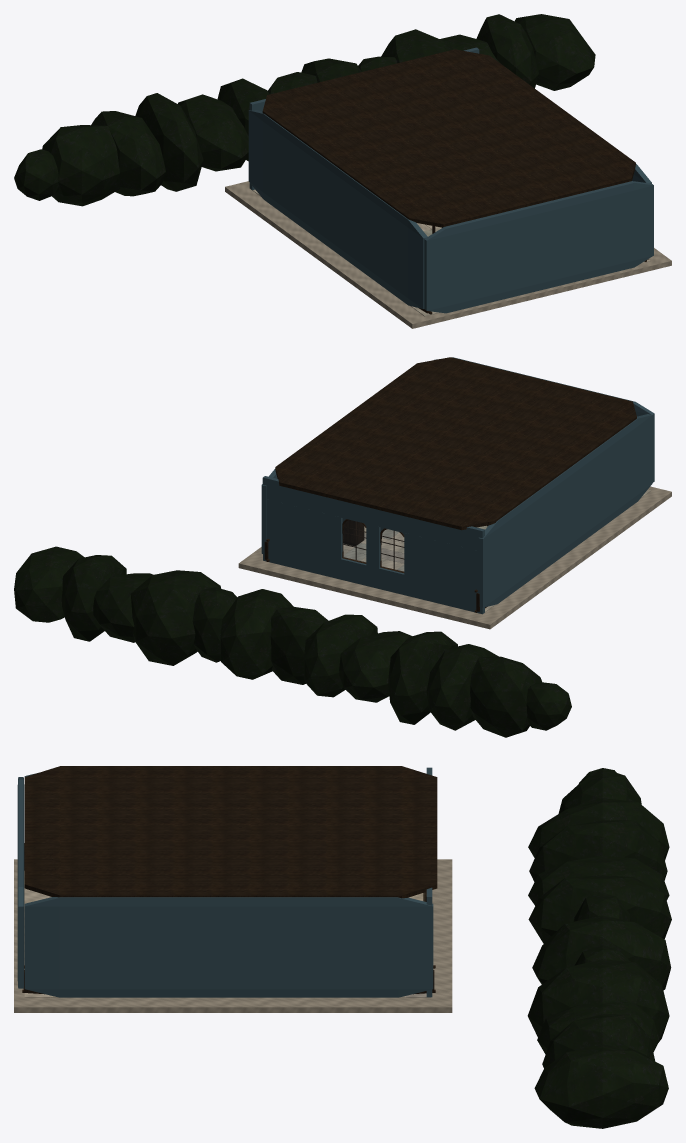
File: museum-2.glb
The picture shows the model from 3 angles, top to bottom: view 1: azimuth 30°, elevation 25°; view 2: azimuth 150°, elevation 25°; view 3: azimuth 270°, elevation 25°; orthographic projection. The views are drawn at different scales.
Visible parts, largest first — view 1: Walnut ceiling.002, Distant view beyond gallery windows.002, Entry wall.002, Deep teal gallery side walls.002, Terrain.002; view 2: Distant view beyond gallery windows.002, Walnut ceiling.002, Deep teal gallery side walls.002, Terrain.002, Rear wall between the windows.002, Rear wall under windows.002, Rear wall over arched windows.002, Hand-laid limestone square tiles.002, Entry wall.002; view 3: Walnut ceiling.002, Distant view beyond gallery windows.002, Deep teal gallery side walls.002, Terrain.002, Entry wall.002, Hand-laid limestone square tiles.002.
Part boxes in pixels (box(x1,y1,x2,y2)): Walnut ceiling.002: box(262, 49, 635, 227); Distant view beyond gallery windows.002: box(14, 14, 595, 206); Entry wall.002: box(424, 181, 653, 313); Deep teal gallery side walls.002: box(248, 110, 651, 308); Terrain.002: box(225, 181, 671, 328); Distant view beyond gallery windows.002: box(14, 546, 571, 737); Walnut ceiling.002: box(275, 357, 636, 530); Deep teal gallery side walls.002: box(261, 414, 652, 607); Terrain.002: box(238, 486, 671, 629); Rear wall between the windows.002: box(266, 499, 478, 592); Rear wall under windows.002: box(263, 542, 484, 614); Rear wall over arched windows.002: box(262, 476, 484, 550); Hand-laid limestone square tiles.002: box(274, 489, 651, 613); Entry wall.002: box(434, 357, 654, 482); Walnut ceiling.002: box(24, 766, 437, 898); Distant view beyond gallery windows.002: box(527, 768, 671, 1128); Deep teal gallery side walls.002: box(24, 773, 433, 997); Terrain.002: box(14, 859, 452, 1012); Entry wall.002: box(17, 777, 24, 988); Hand-laid limestone square tiles.002: box(24, 888, 430, 997).
Bounding box in the file's own units: 29.32 × 6.92 × 25.37.
11 materials, 3 textured.
